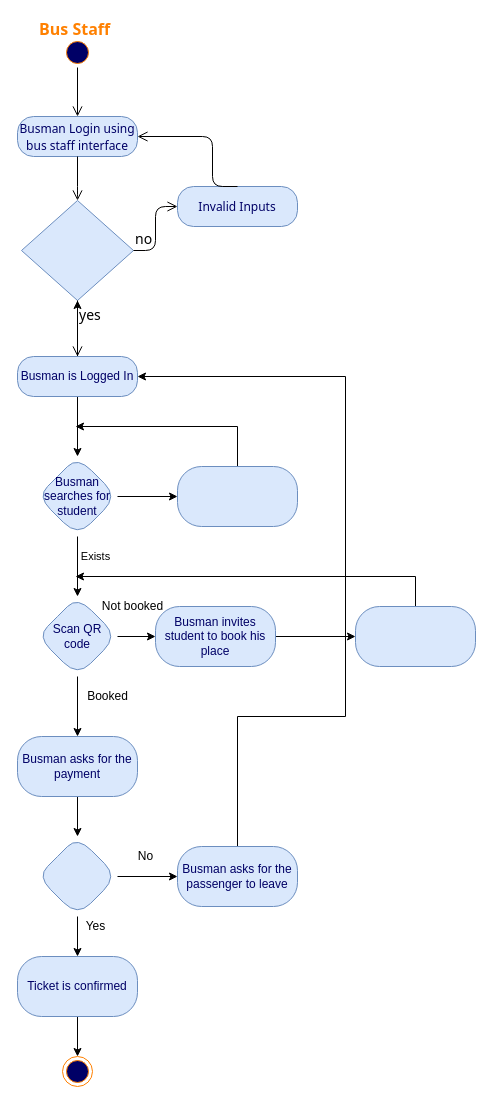
This 493x1104 diagram has some shape labels left out. Each missing label, with the centre of its shape:
"Check username and password" belongs at (77,250).
"Passenger pays the ticket fee" belongs at (77,876).
"Student books the place" belongs at (415,636).
"Student does not exist" belongs at (237,496).
